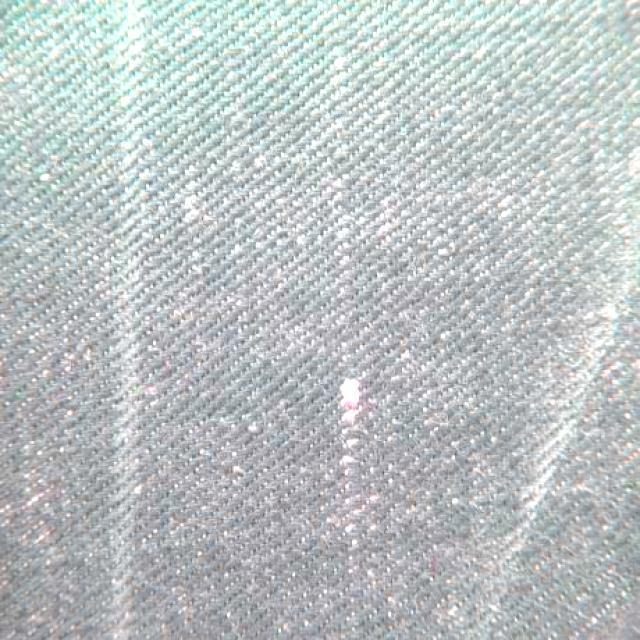stains: (255, 83, 434, 640)
